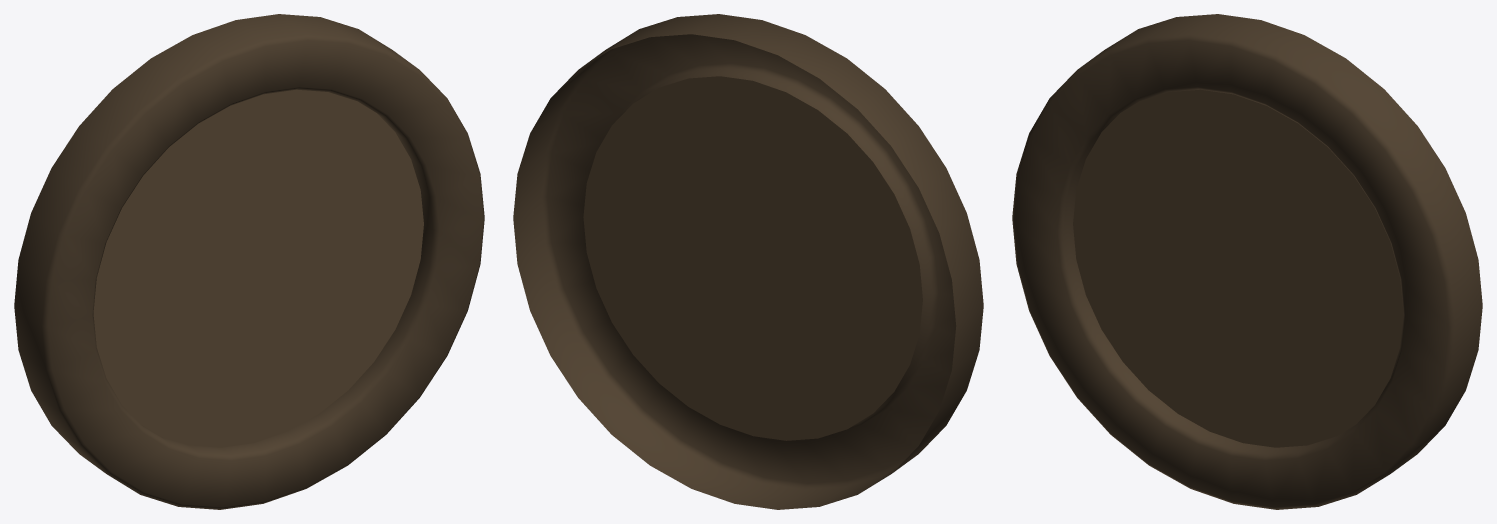
File: wheel.glb
The picture shows the model from 3 angles, left to right: view 1: azimuth 30°, elevation 25°; view 2: azimuth 150°, elevation 25°; view 3: azimuth 330°, elevation 25°; orthographic projection.
Visible parts, largest first — view 1: Cylinder; view 2: Cylinder; view 3: Cylinder.
Boxes of the visible parts, x1=… form: Cylinder: x1=14, y1=14, x2=484, y2=509; Cylinder: x1=513, y1=14, x2=983, y2=509; Cylinder: x1=1012, y1=14, x2=1482, y2=509.
Size of the model in its own units: 1 by 1 by 0.1172.
